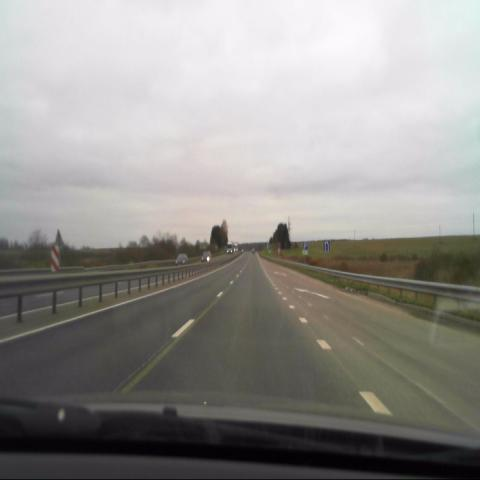5_15_5: (323, 239, 329, 253)
